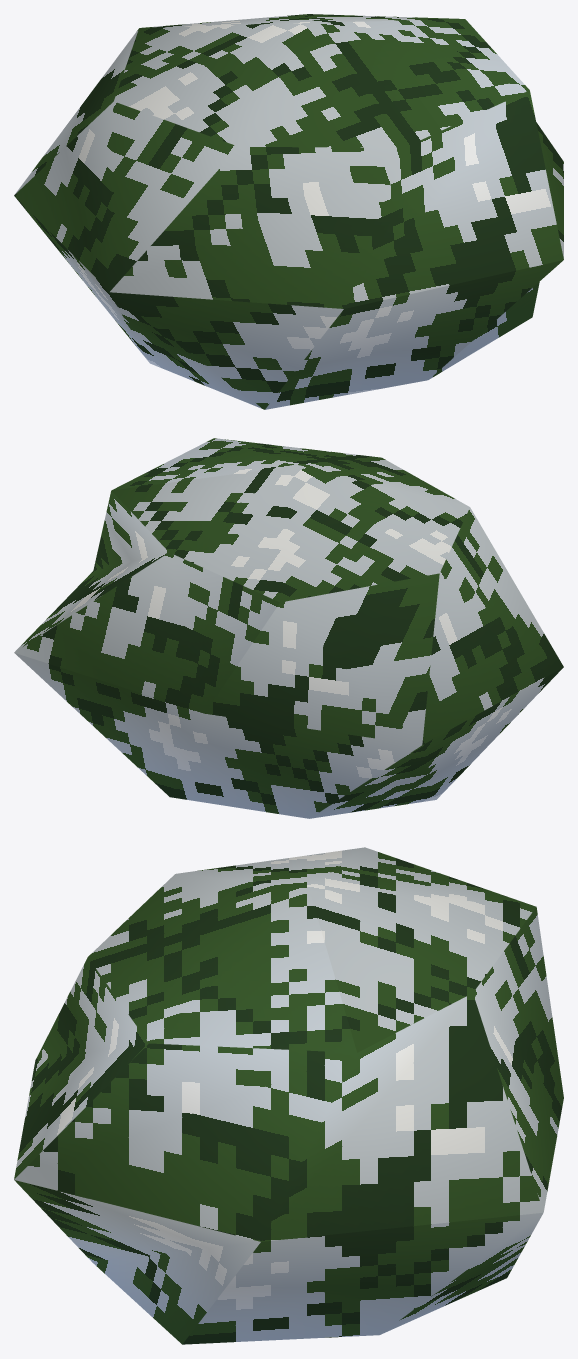
The model's file is mnat.bush.glb.
The picture shows the model from 3 angles, top to bottom: view 1: azimuth 30°, elevation 25°; view 2: azimuth 150°, elevation 25°; view 3: azimuth 270°, elevation 25°; orthographic projection. The views are drawn at different scales.
Parts seen in each view (by area): view 1: kit_bush; view 2: kit_bush; view 3: kit_bush.
Part boxes in pixels (x1,y1,x2,y2): kit_bush: (14,14,563,409); kit_bush: (14,438,563,818); kit_bush: (14,847,563,1344).
Bounding box in the file's own units: 1.74 × 1.24 × 1.45.
1 material, 1 textured.
